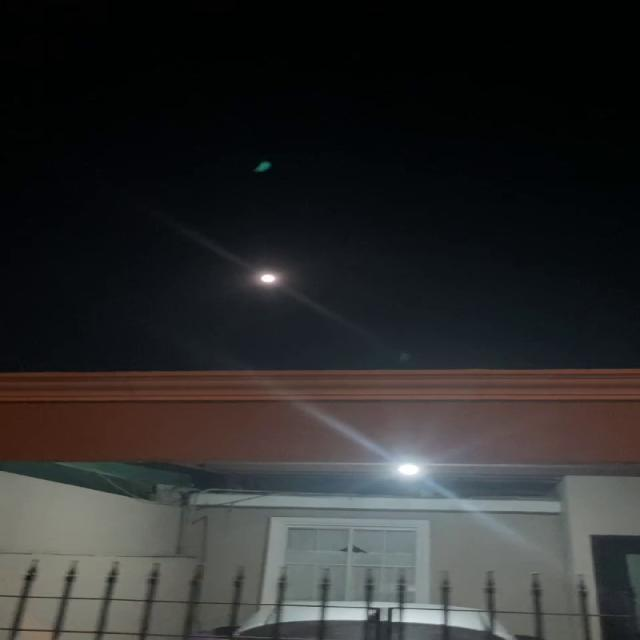moon: (258, 268, 281, 289)
